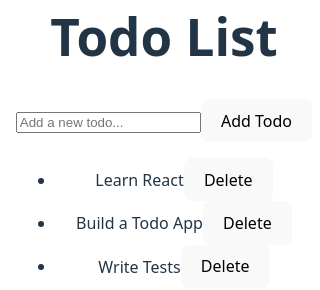
Test case: TodoList Component › deletes a todo
The width and height of the screenshot is (320, 290).
Expected: the text "Learn React" is shown, [95, 169, 184, 191]
Get all delete buttons and click the first one
Click the button "Delete" next to "Learn React" at [228, 180], box [184, 158, 273, 202]
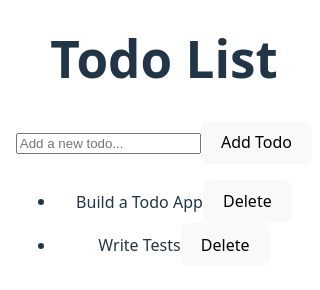
Expected: the text "Build a Todo App" is shown, [76, 190, 203, 212]
Now the text "Learn React" is gone
